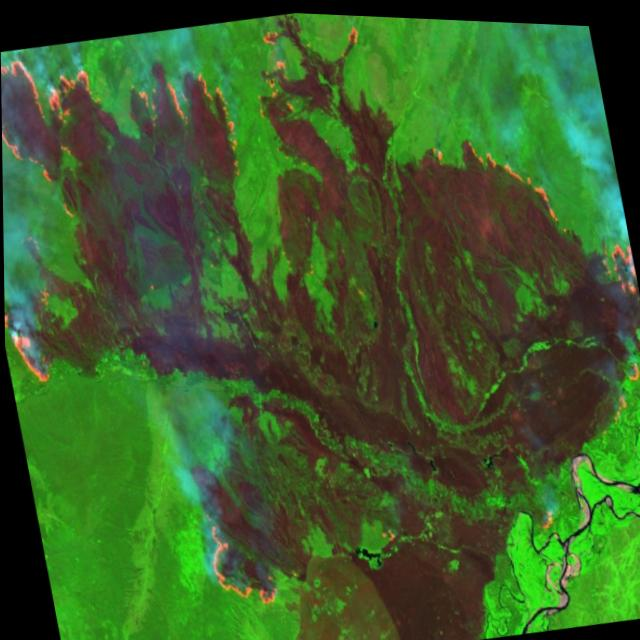fire: (0, 13, 283, 401), (457, 92, 640, 449), (237, 8, 376, 122), (193, 507, 281, 619)
